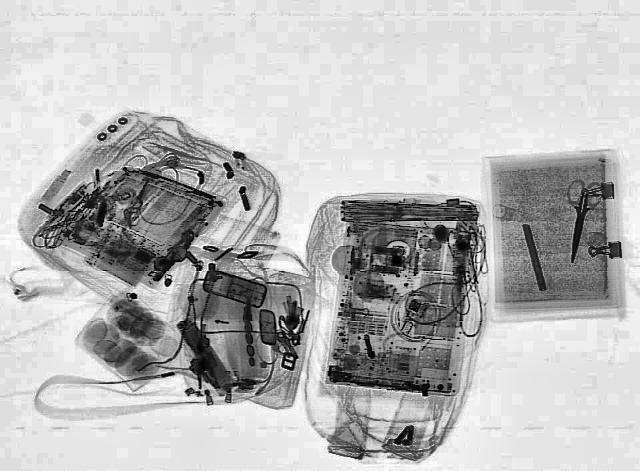Knife: (562, 192, 592, 262)
